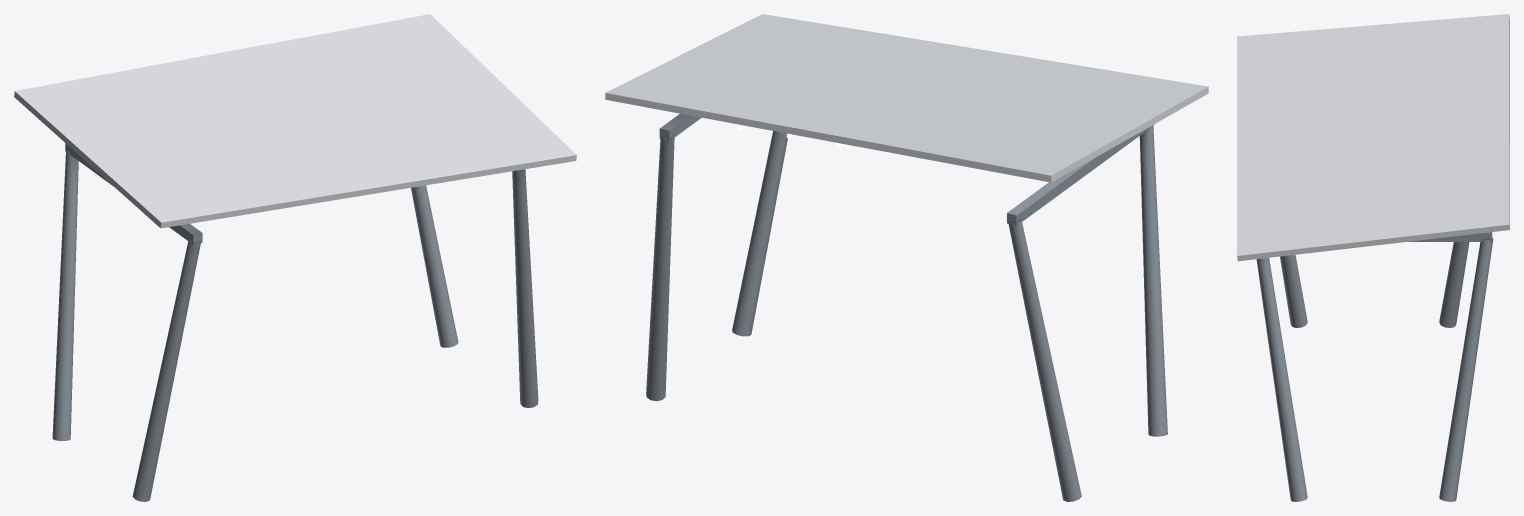
Rendered from skypoint.glb.
The picture shows the model from 3 angles, left to right: view 1: azimuth 30°, elevation 25°; view 2: azimuth 150°, elevation 25°; view 3: azimuth 270°, elevation 25°; orthographic projection. The views are drawn at different scales.
Visible parts, largest first — view 1: skypoint; view 2: skypoint; view 3: skypoint.
Boxes of the visible parts, bbox=[...] form: skypoint: bbox=[14, 14, 576, 501]; skypoint: bbox=[605, 14, 1208, 501]; skypoint: bbox=[1237, 14, 1509, 501].
Bounding box in the file's own units: 18.02 × 13.59 × 11.03.
Materials: 1 (1 with a texture image).
